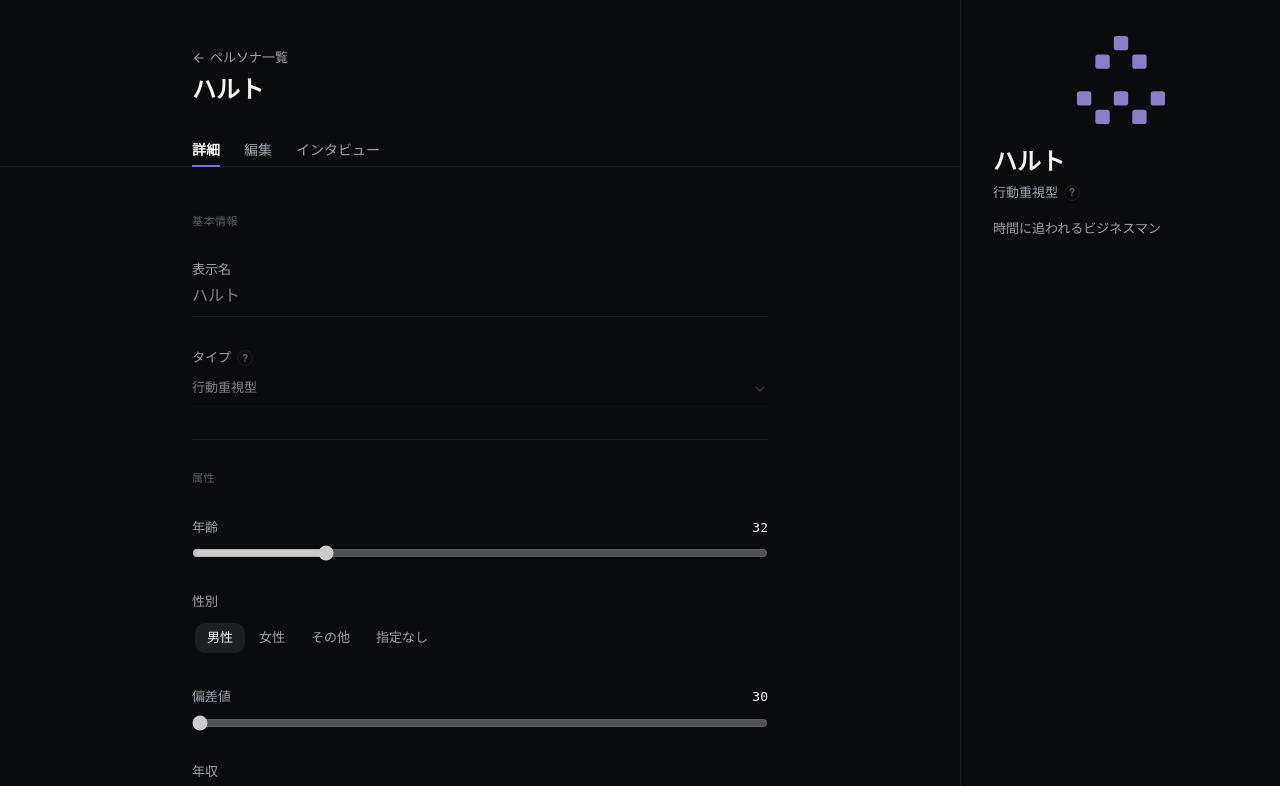
it: PersonaUnifiedPage › インタビュータブに切替できる
This screenshot has width=1280, height=786.
Click the button "インタビュー" at (338, 153), box [296,140,380,166]
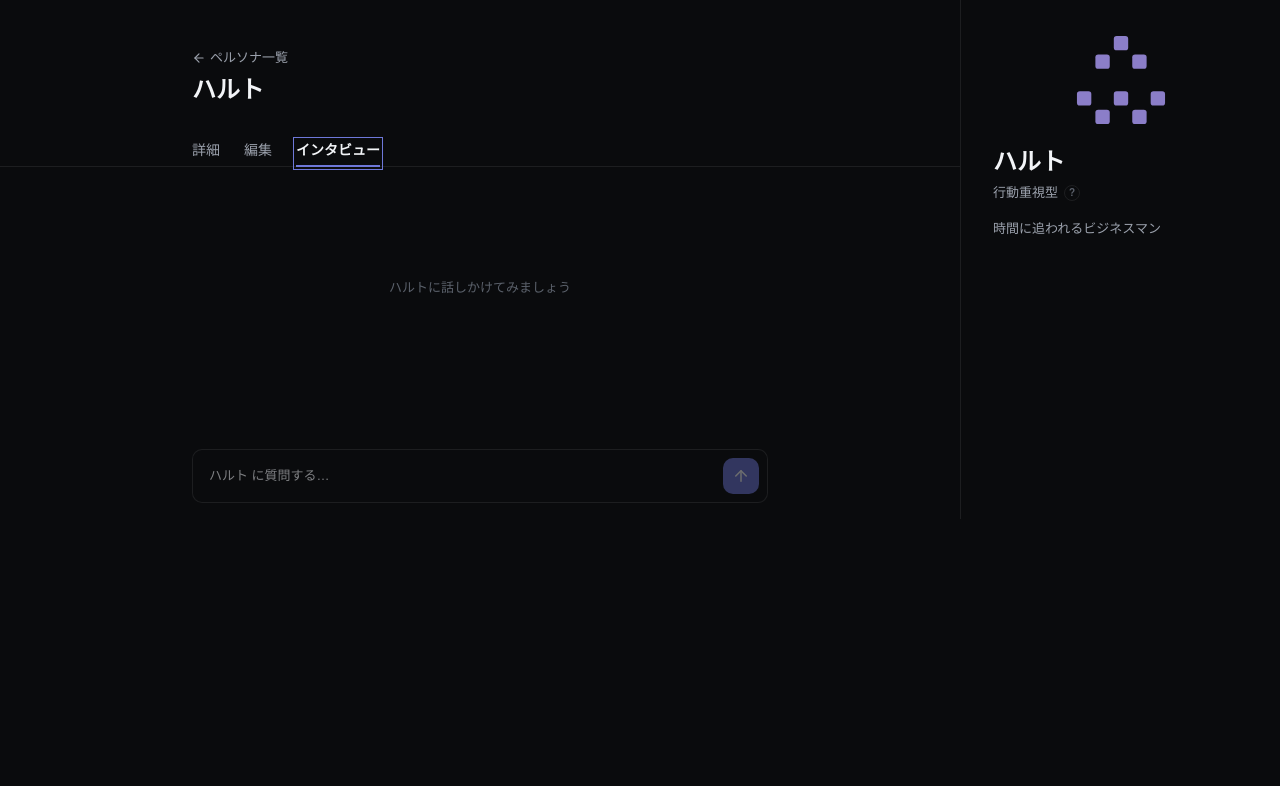
Check: the field with placeholder "ハルト に質問する…" is shown, box [209,467,711,485]
